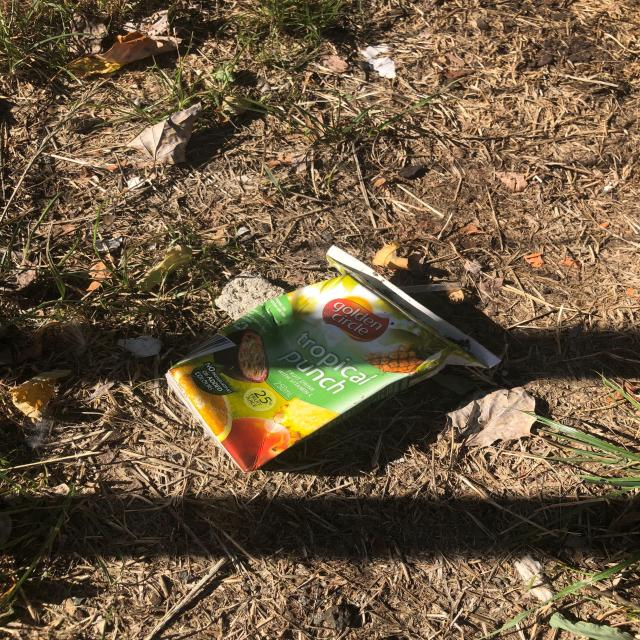litter: (327, 101, 636, 363), (64, 182, 108, 212)
